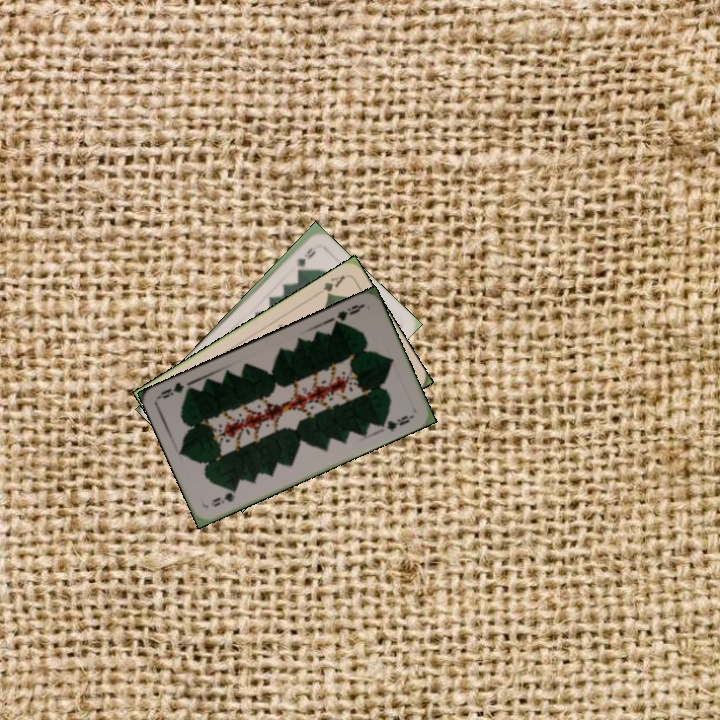G9: (330, 300, 366, 329), (207, 485, 240, 509), (292, 244, 318, 269)
GA: (312, 271, 348, 299)
